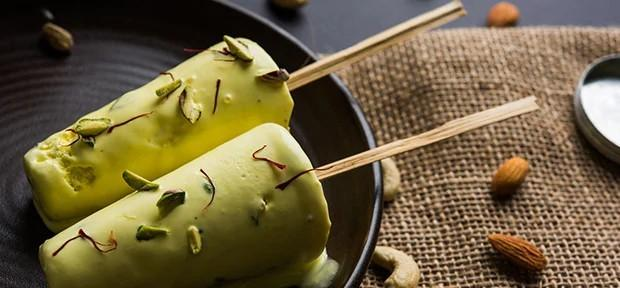Kulfi: (24, 34, 294, 223), (39, 122, 331, 288)
